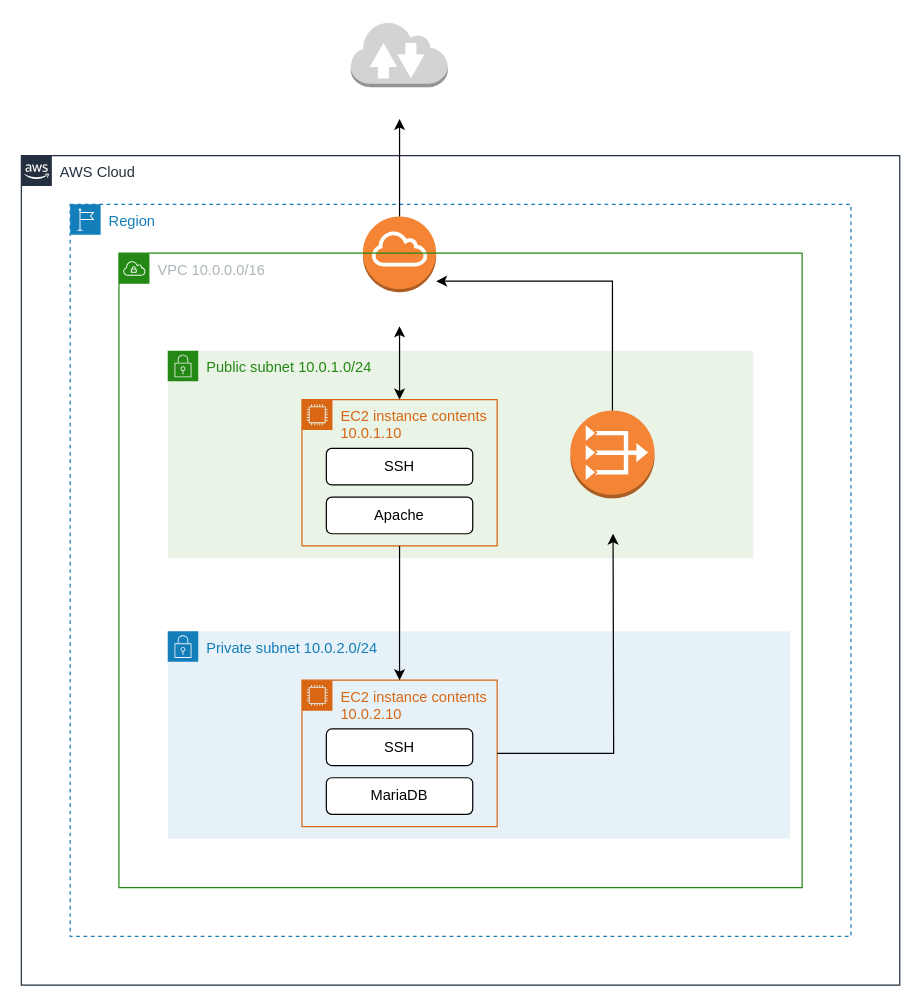
Image size: 921x1007. Some labels were removed from this diagram. The centre of each missing label's shape, as x and y in pixels:
Internet: [399,53]
Internet Gateway: [399,253]
NAT Gateway: [612,453]
